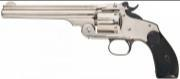gun: (0, 2, 179, 79)
